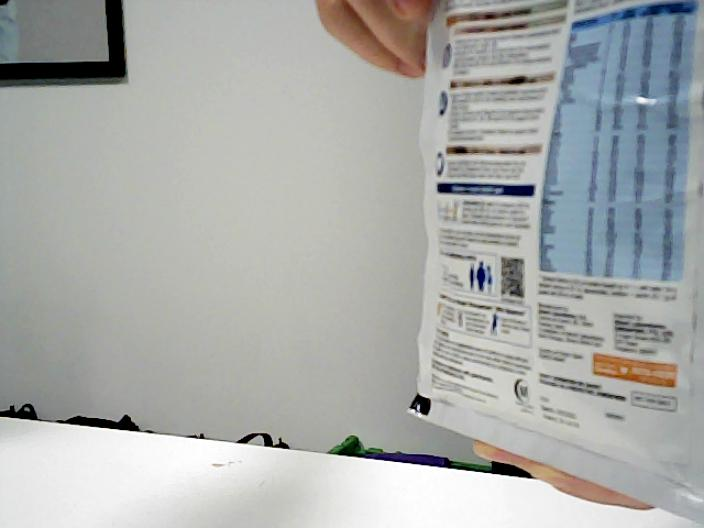Adult_Milk_0-99g_Halal_NonHealthy: (432, 4, 704, 448)
